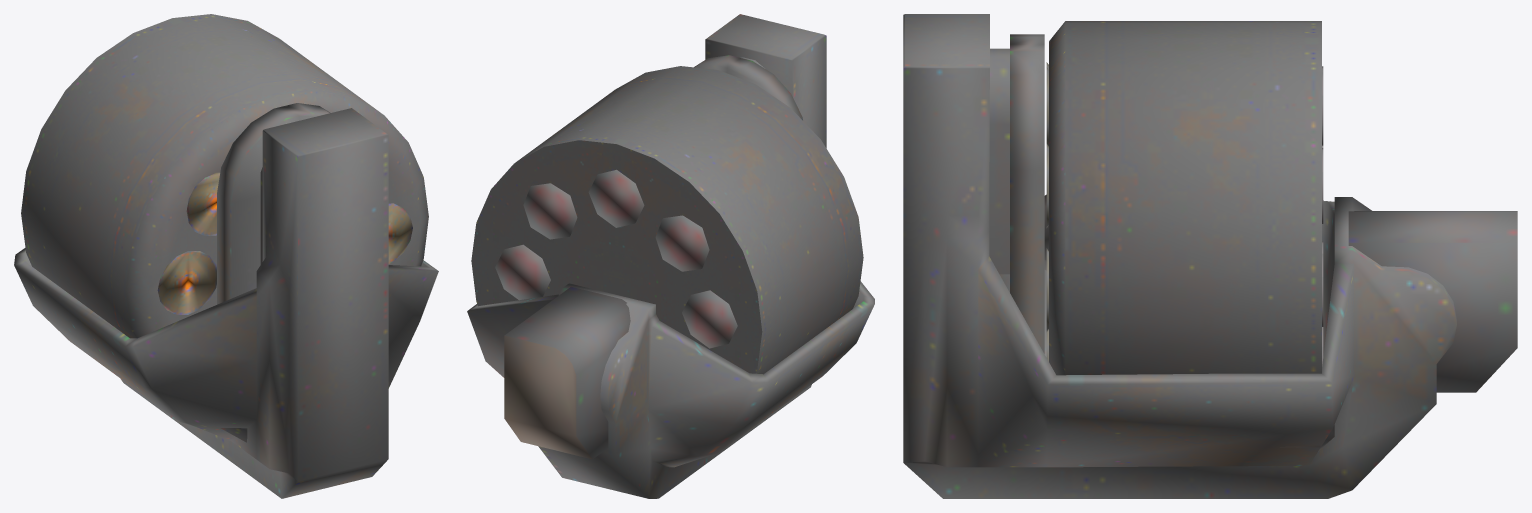
The model's file is mag2.obj.
The picture shows the model from 3 angles, left to right: view 1: azimuth 30°, elevation 25°; view 2: azimuth 150°, elevation 25°; view 3: azimuth 270°, elevation 25°; orthographic projection. The views are drawn at different scales.
Parts seen in each view (by area): view 1: mag2; view 2: mag2; view 3: mag2.
Boxes of the visible parts, left/top/right/bottom form: mag2: left=14, top=14, right=438, bottom=498; mag2: left=467, top=14, right=874, bottom=498; mag2: left=903, top=14, right=1517, bottom=498.
Bounding box in the file's own units: 14.42 × 15.73 × 20.23.
